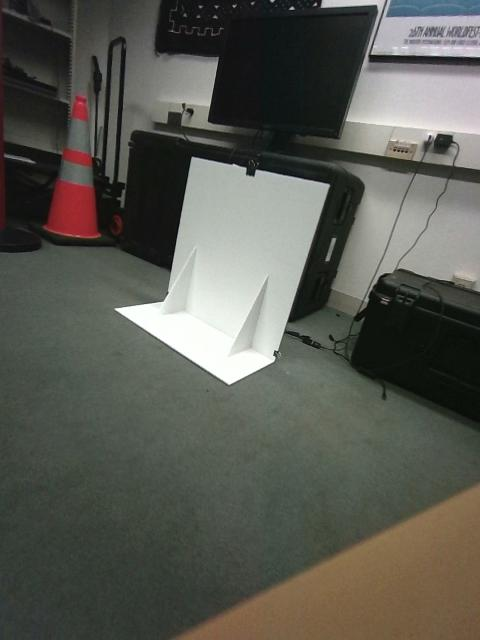block: (232, 298, 267, 333)
